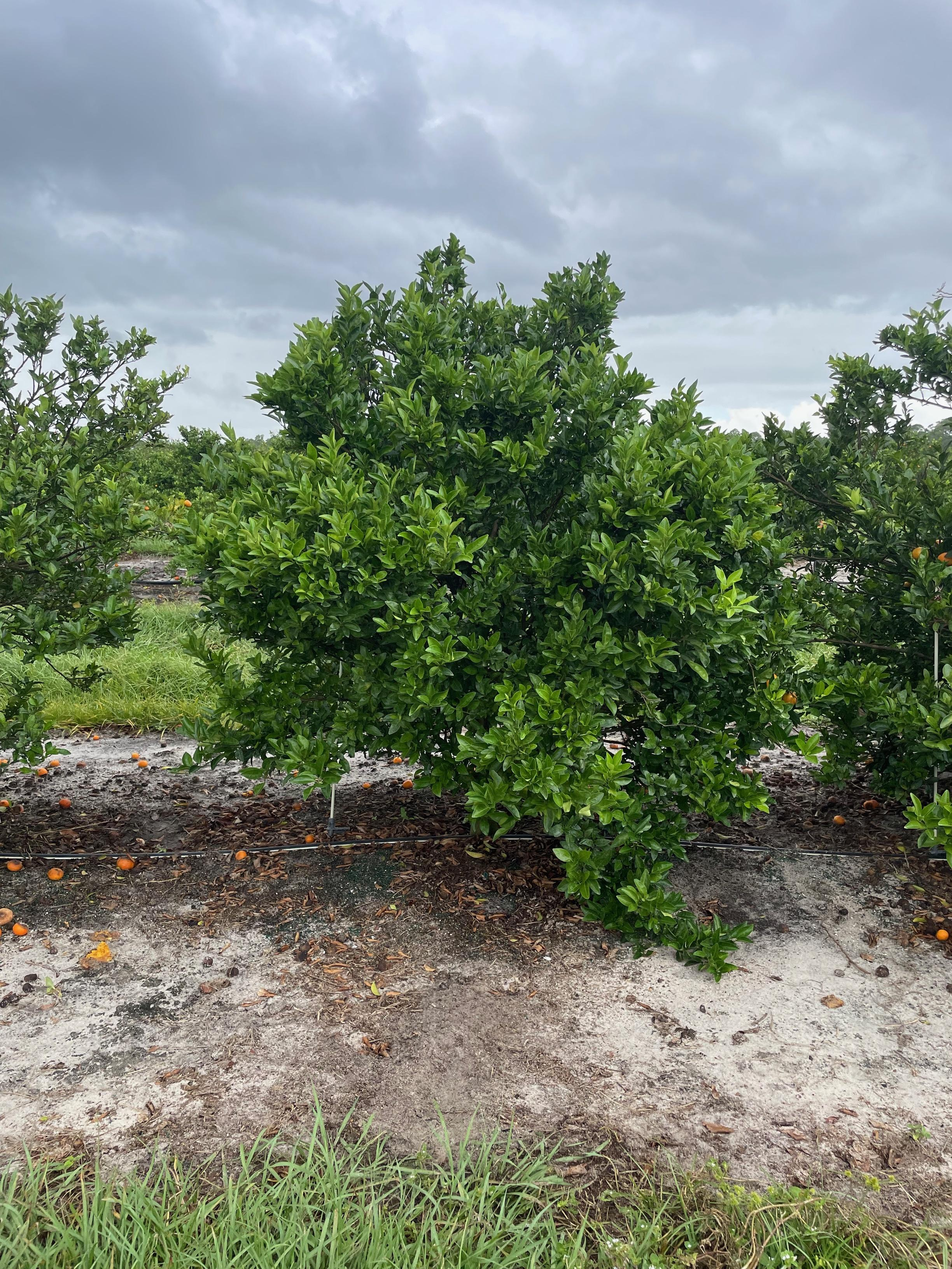fruit_on_ground: (761, 672, 781, 691), (910, 545, 930, 564), (780, 690, 799, 707), (935, 550, 952, 568), (182, 498, 193, 508), (143, 505, 150, 512)
fruit_on_tree: (115, 854, 135, 872), (0, 907, 17, 926), (861, 796, 881, 812), (46, 865, 65, 881), (12, 920, 29, 936), (934, 926, 950, 942), (5, 857, 23, 871), (831, 812, 847, 825), (740, 765, 755, 778), (401, 777, 415, 790), (234, 848, 248, 861), (58, 795, 72, 808), (862, 754, 875, 767), (390, 754, 404, 766), (303, 833, 317, 845), (14, 803, 26, 815), (388, 777, 401, 788), (758, 753, 771, 764), (1, 796, 12, 809), (35, 766, 48, 777), (49, 757, 61, 768), (0, 755, 10, 767), (129, 750, 141, 760), (137, 758, 149, 768), (361, 780, 373, 789), (91, 733, 102, 742)
